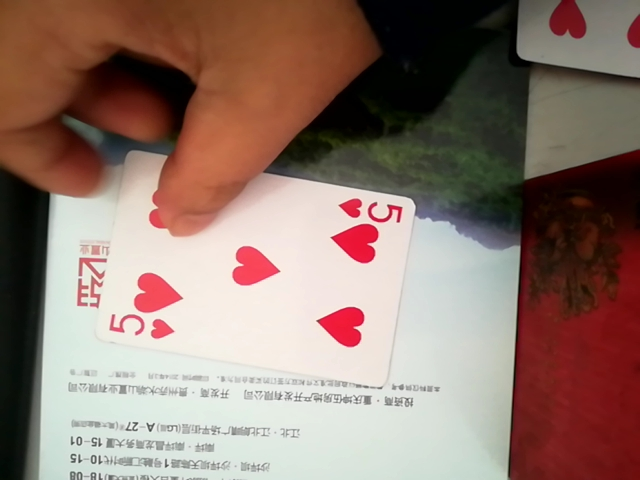hx 5: (57, 177, 421, 380)
